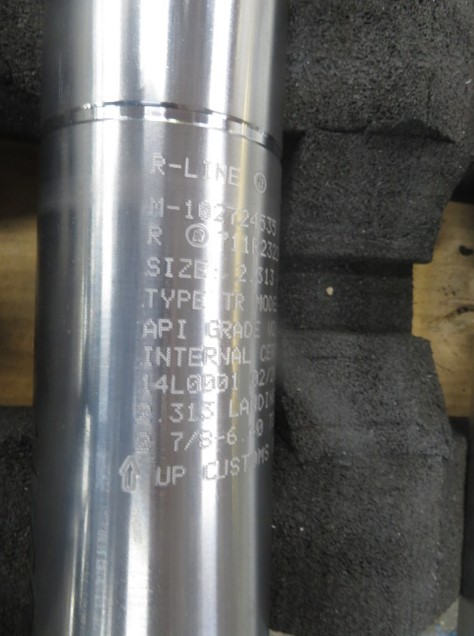character: (145, 148, 168, 181), (147, 193, 167, 219), (146, 225, 166, 250), (181, 153, 198, 181), (157, 317, 174, 344), (174, 317, 191, 344), (154, 346, 173, 370), (134, 401, 153, 425), (151, 372, 169, 396), (158, 288, 176, 311), (205, 319, 222, 343), (169, 373, 186, 397), (202, 459, 219, 483), (171, 465, 188, 488), (178, 257, 193, 283), (136, 372, 151, 397), (203, 346, 219, 369), (169, 401, 185, 424), (223, 427, 239, 450), (155, 464, 171, 487), (140, 343, 154, 369), (228, 164, 243, 188), (216, 345, 231, 369), (197, 429, 214, 450), (142, 317, 158, 339), (184, 373, 200, 395), (216, 459, 232, 481), (198, 200, 212, 225), (176, 287, 190, 312), (173, 346, 188, 369), (188, 346, 203, 369), (168, 430, 183, 453), (220, 317, 233, 343), (217, 229, 231, 253), (193, 259, 207, 283), (145, 256, 160, 278), (182, 198, 195, 223), (162, 256, 175, 281), (213, 200, 225, 226), (144, 284, 156, 309), (200, 373, 215, 393), (215, 373, 230, 393), (201, 400, 216, 420), (225, 400, 240, 420), (214, 162, 227, 185), (192, 289, 206, 310), (226, 205, 238, 229), (242, 346, 256, 366), (201, 158, 213, 181), (235, 290, 247, 313), (232, 320, 244, 342), (186, 400, 197, 424), (230, 371, 241, 394), (229, 232, 239, 254), (232, 346, 242, 368), (254, 320, 264, 341), (168, 160, 184, 173), (223, 290, 233, 310), (240, 236, 249, 257), (244, 320, 252, 342)
